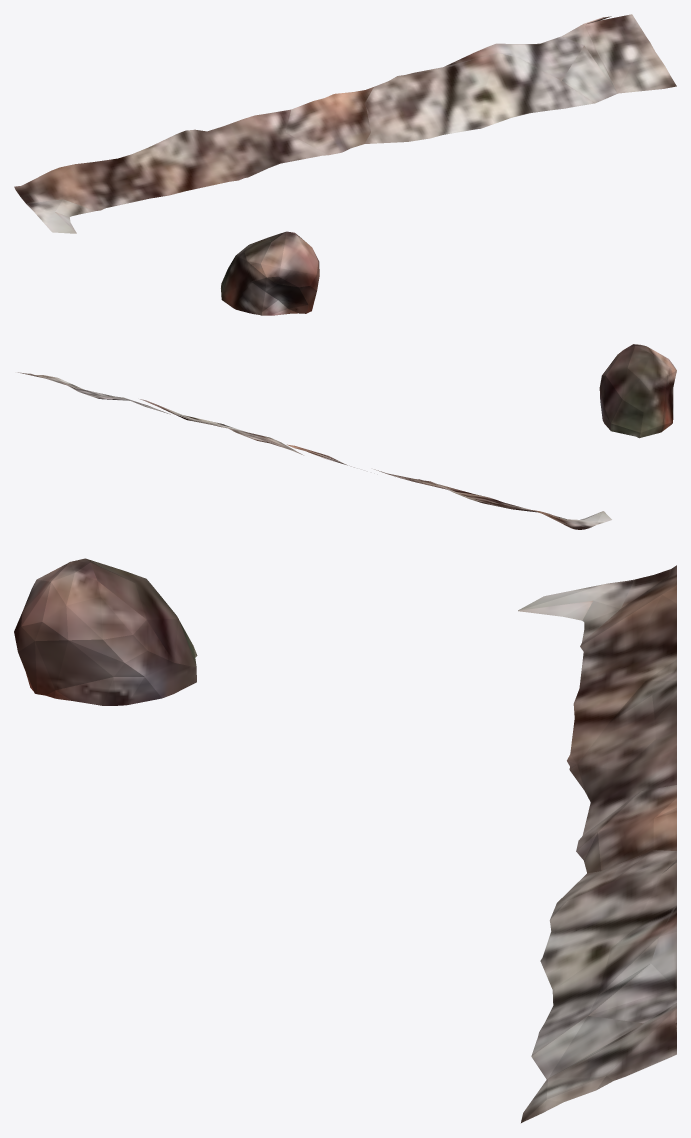
The picture shows the model from 3 angles, top to bottom: view 1: azimuth 30°, elevation 25°; view 2: azimuth 150°, elevation 25°; view 3: azimuth 270°, elevation 25°; orthographic projection. The views are drawn at different scales.
Bounding box in the file's own units: 1.67 × 0.1822 × 0.89.
1 material, 1 textured.
